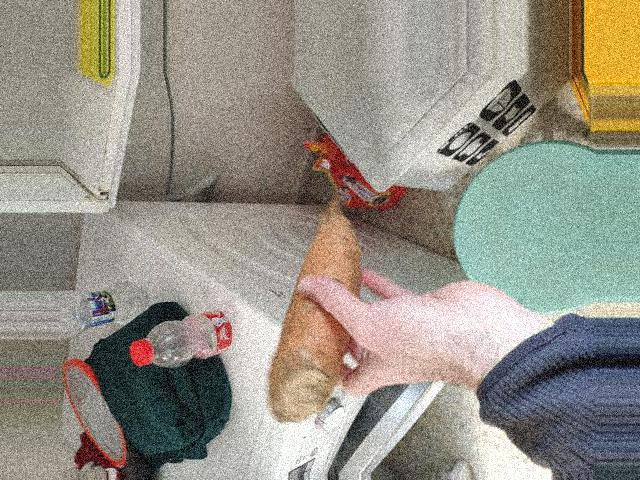sweet_potato: (281, 192, 346, 420)
